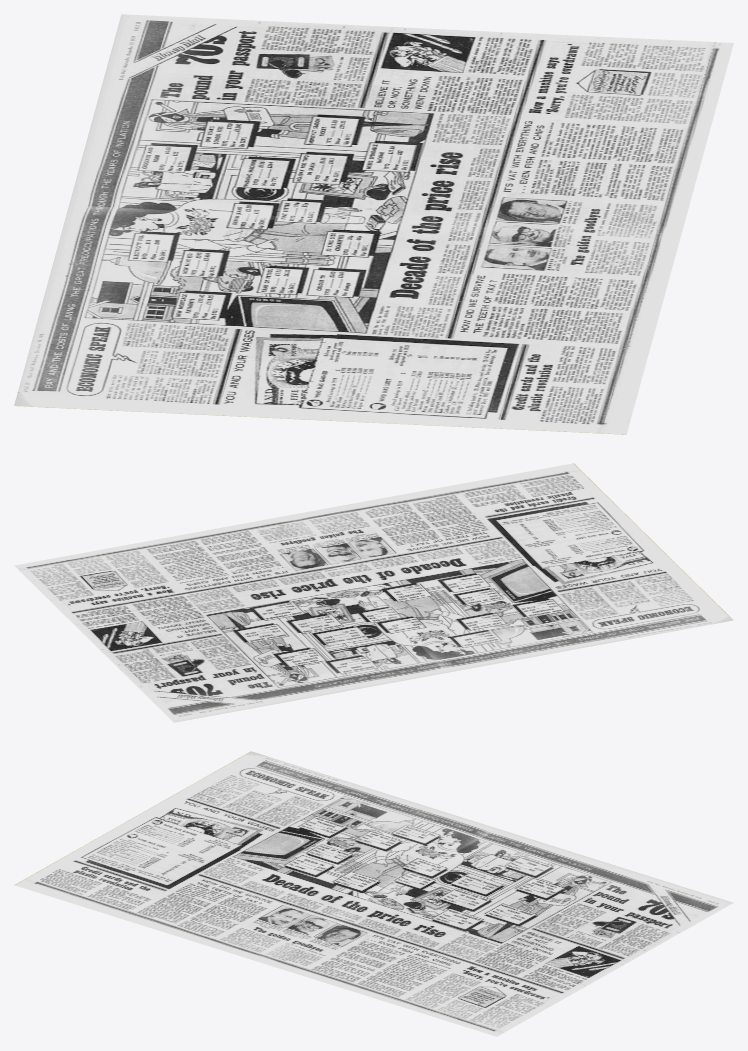
The picture shows the model from 3 angles, top to bottom: view 1: azimuth 30°, elevation 25°; view 2: azimuth 150°, elevation 25°; view 3: azimuth 270°, elevation 25°; orthographic projection. The views are drawn at different scales.
Visible parts, largest first — view 1: JORNAL; view 2: JORNAL; view 3: JORNAL.
Part boxes in pixels (x1=…): JORNAL: x1=14, y1=14, x2=733, y2=434; JORNAL: x1=14, y1=463, x2=733, y2=722; JORNAL: x1=14, y1=751, x2=733, y2=1036.
Bounding box in the file's own units: 82.75 × 0.1132 × 87.89.
Materials: 1 (1 with a texture image).
